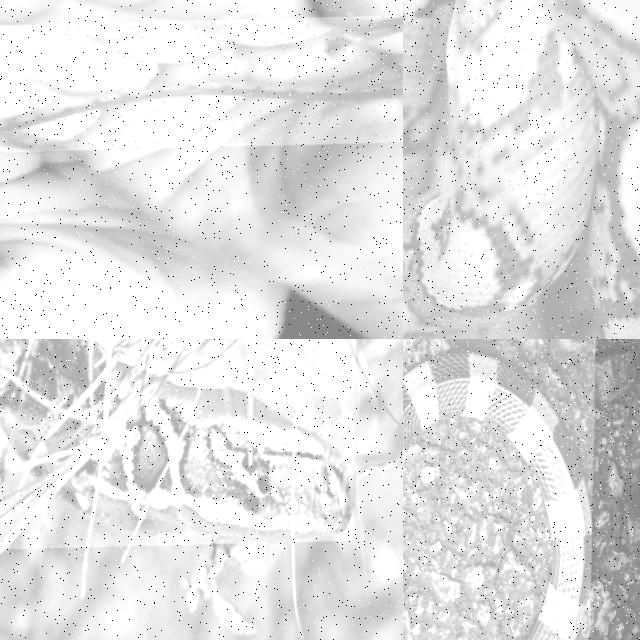Bungarus fasciatus: (403, 353, 592, 639)
Calliophis intestinalis: (0, 84, 402, 151)
Malayopython reticulatus: (403, 0, 639, 338)
Python bivittatus: (60, 382, 354, 541)
